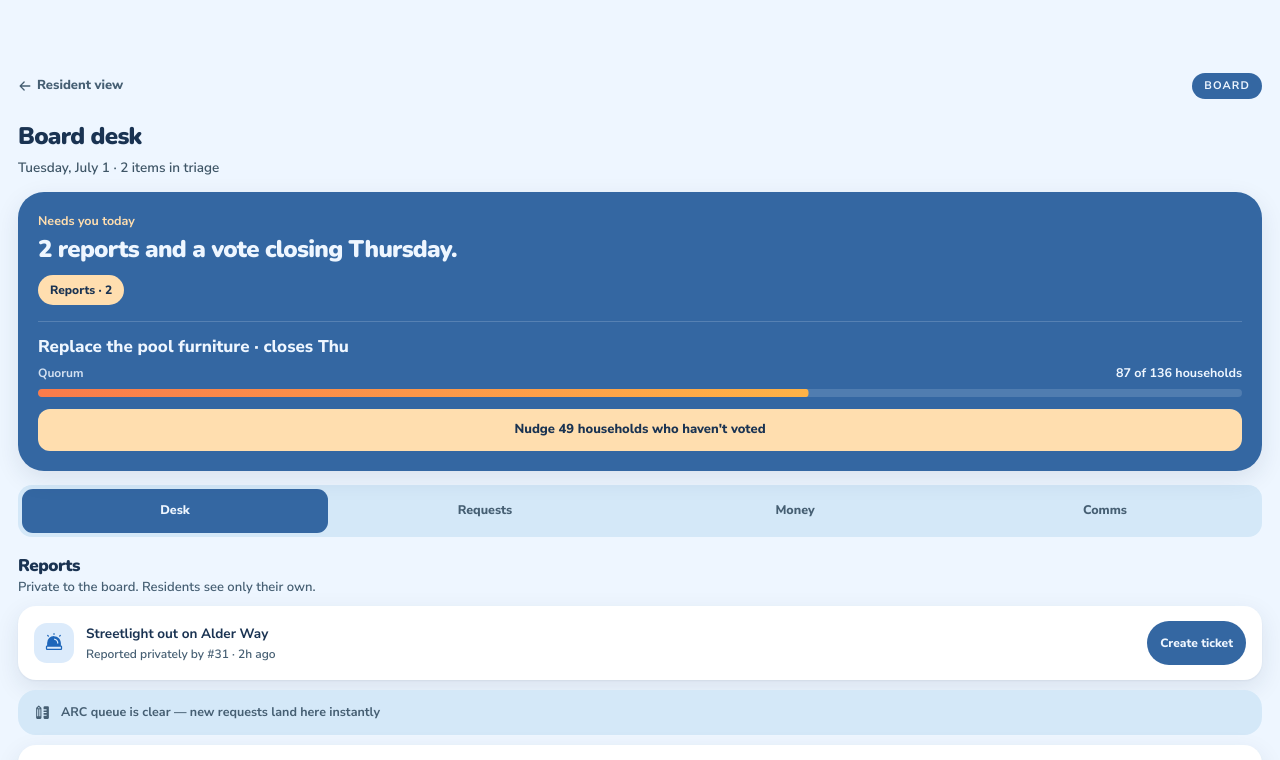
Test: vote nudge adds six households to quorum
Click the button "Nudge 49 households who haven't voted": (640, 430) left=38, top=409, right=1242, bottom=451
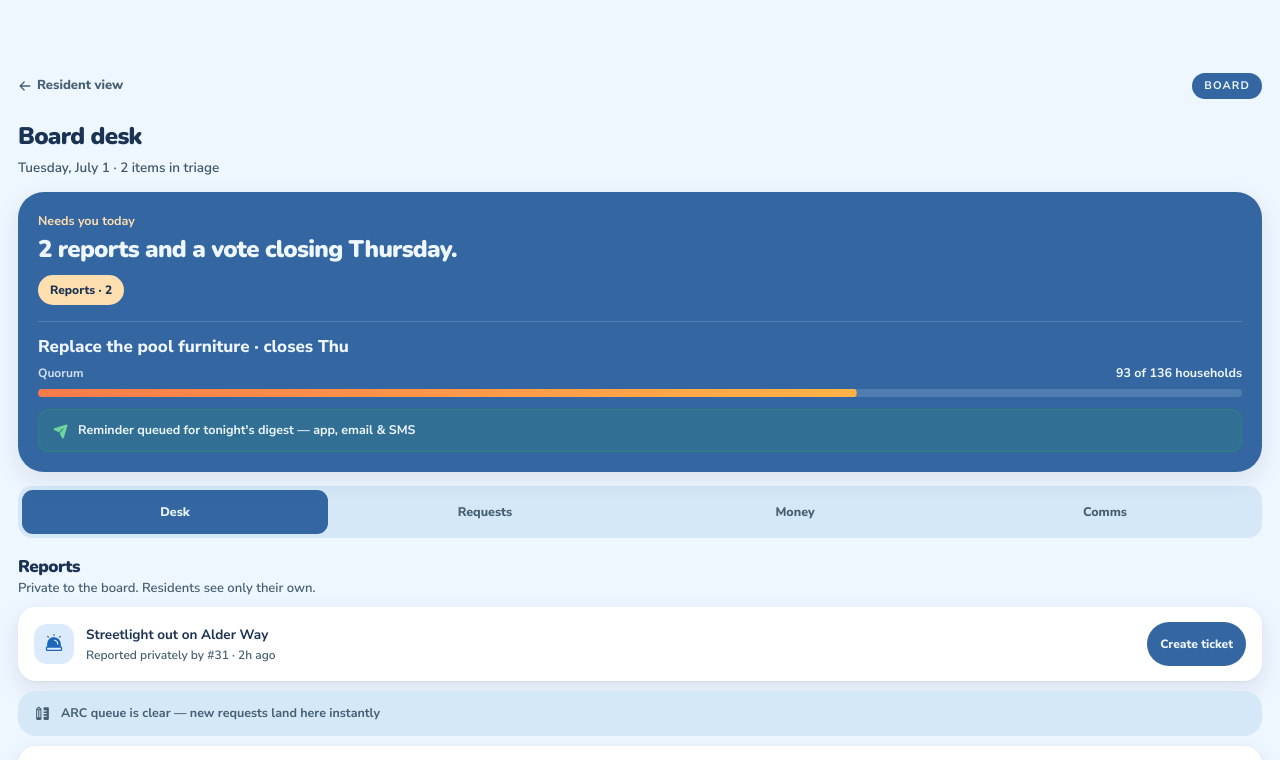
expect the text "93 of 136 households" is shown: met, box left=1116, top=364, right=1242, bottom=383
